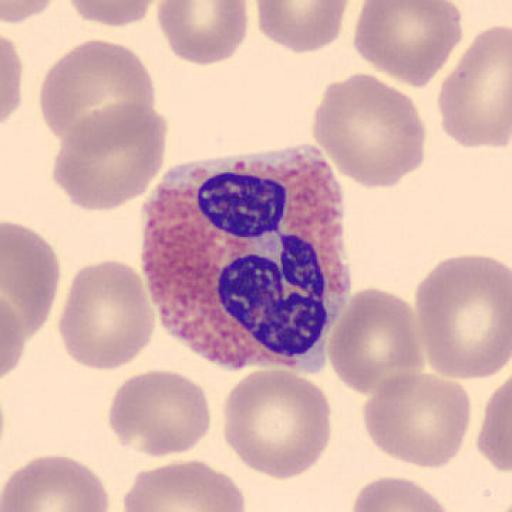RBC: (312, 70, 426, 190), (50, 100, 168, 214), (38, 38, 157, 148), (221, 368, 334, 482), (413, 252, 511, 382), (58, 258, 156, 372), (326, 285, 424, 398), (362, 371, 473, 470), (352, 0, 464, 89), (107, 367, 212, 460), (436, 23, 512, 151), (2, 220, 62, 340), (122, 457, 246, 512), (1, 453, 110, 512), (155, 0, 249, 66), (255, 0, 352, 55), (348, 475, 460, 512), (476, 373, 512, 475), (0, 292, 28, 382), (67, 0, 156, 28), (0, 34, 23, 128), (2, 0, 56, 24)
WBC: (140, 154, 349, 372)
